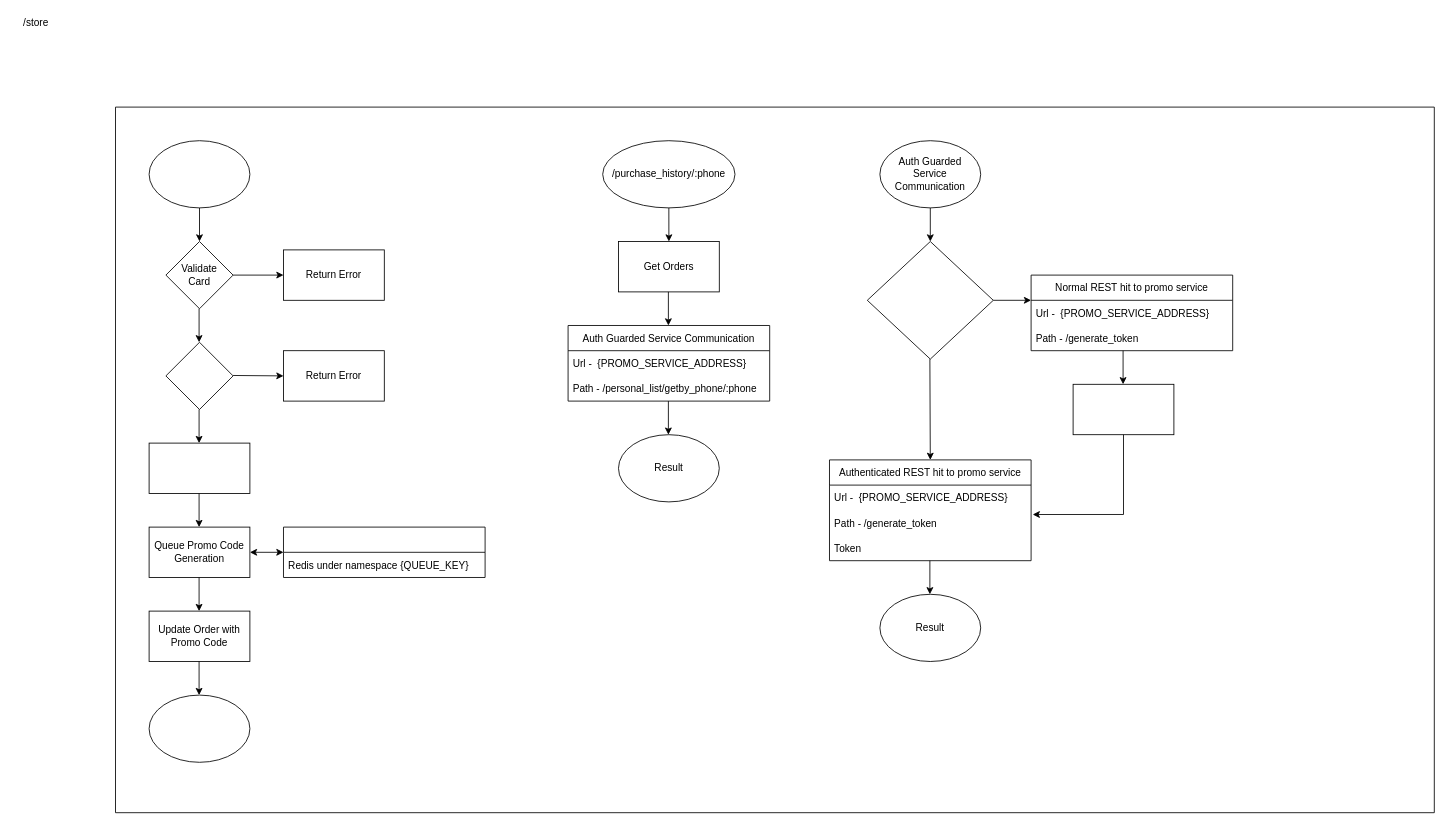
This 1449x827 diagram has some shape labels left out. The shapes that lost their labels are listed below. From the top down, each one's box as (x1, y1, x2, y2) in pixels, then its label:
(148, 140, 250, 208): /pay
(866, 241, 993, 359): Get Auth Token from Redis Under Namespace {TOKEN_KEY}
(165, 341, 233, 410): Validate Order to Pay
(1072, 383, 1174, 435): Store Auth Keys in Redis under Namespace {TOKEN_KEY}
(148, 442, 250, 494): Upate Order (status, total, etc)
(283, 526, 485, 578): Push Job Queue Service
(148, 694, 250, 762): Return
